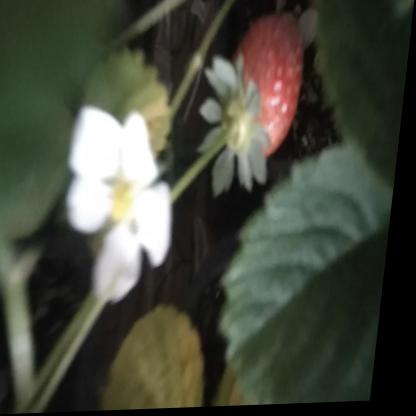ripe: (224, 10, 311, 160)
